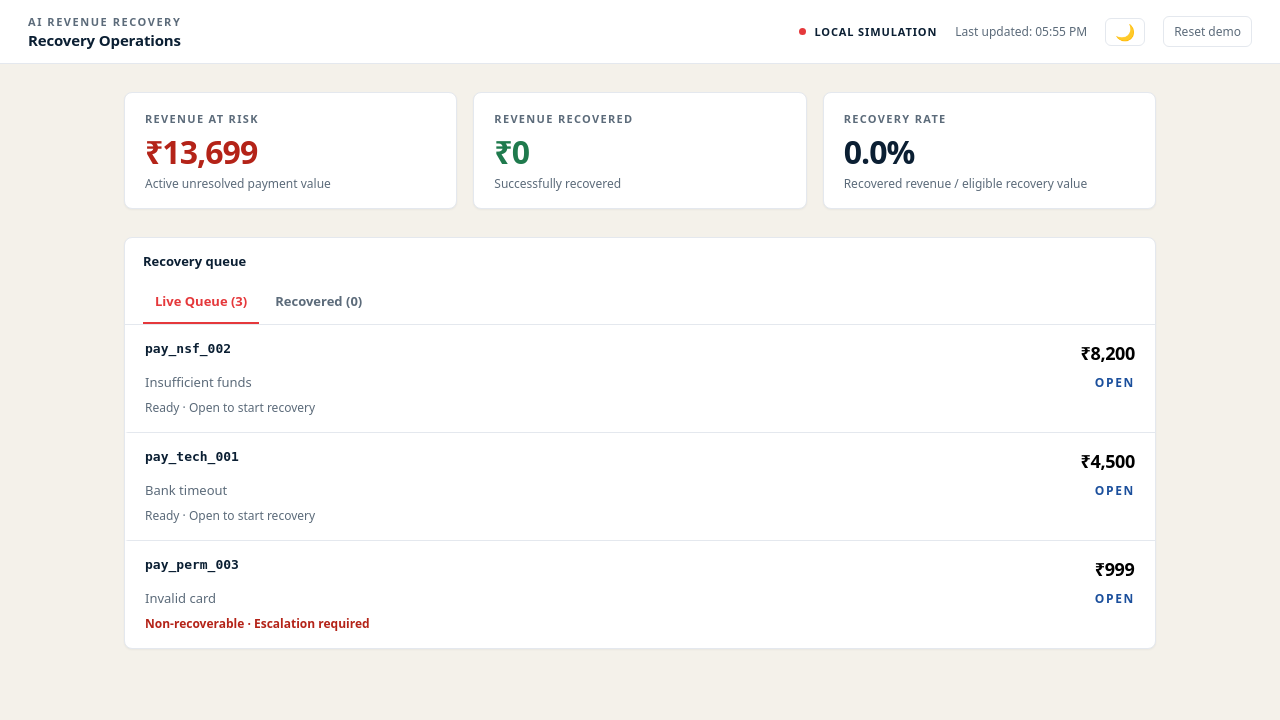
Test: RecoveryQueuePage › shows escalated note for already-escalated permanent failure and no recovery button
expect the text "pay_perm_003" is shown: met, box [145, 557, 239, 572]
Click the button with aria-label "Open recovery case pay_perm_003": (192, 565) [125, 541, 1155, 648]
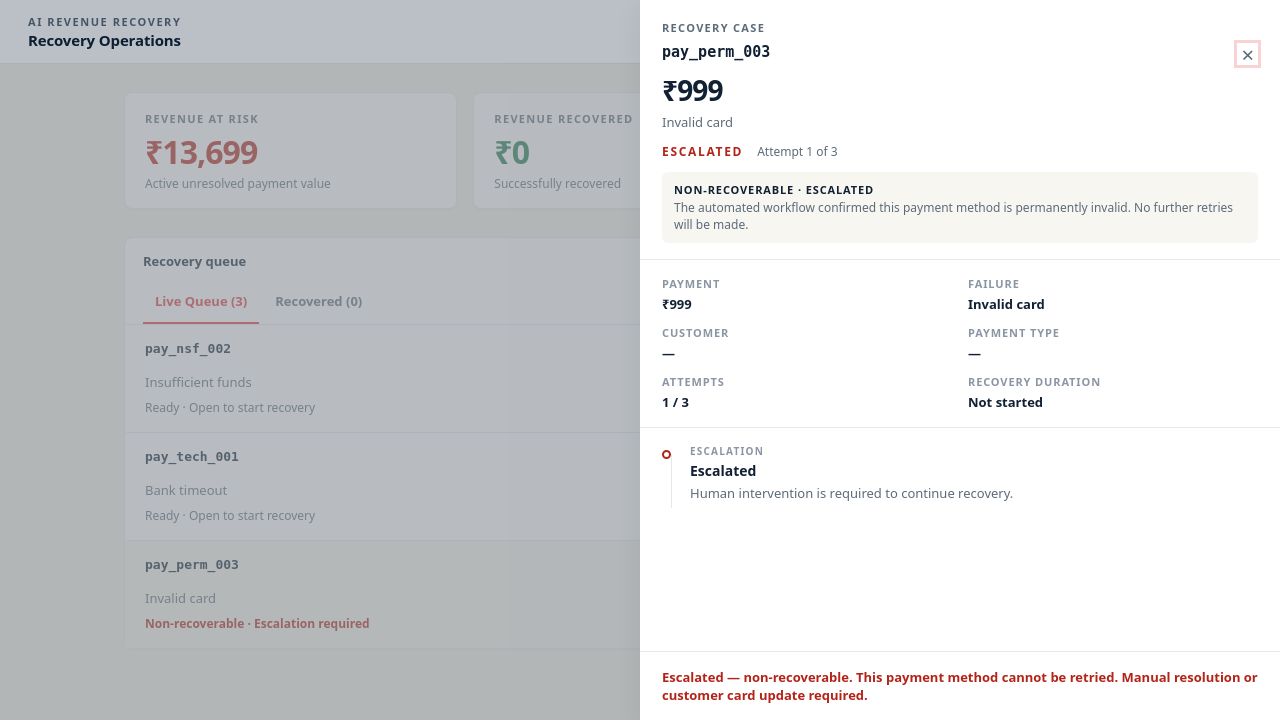
expect the text "Escalated — non-recoverable" is shown: met, box [662, 668, 1258, 704]
